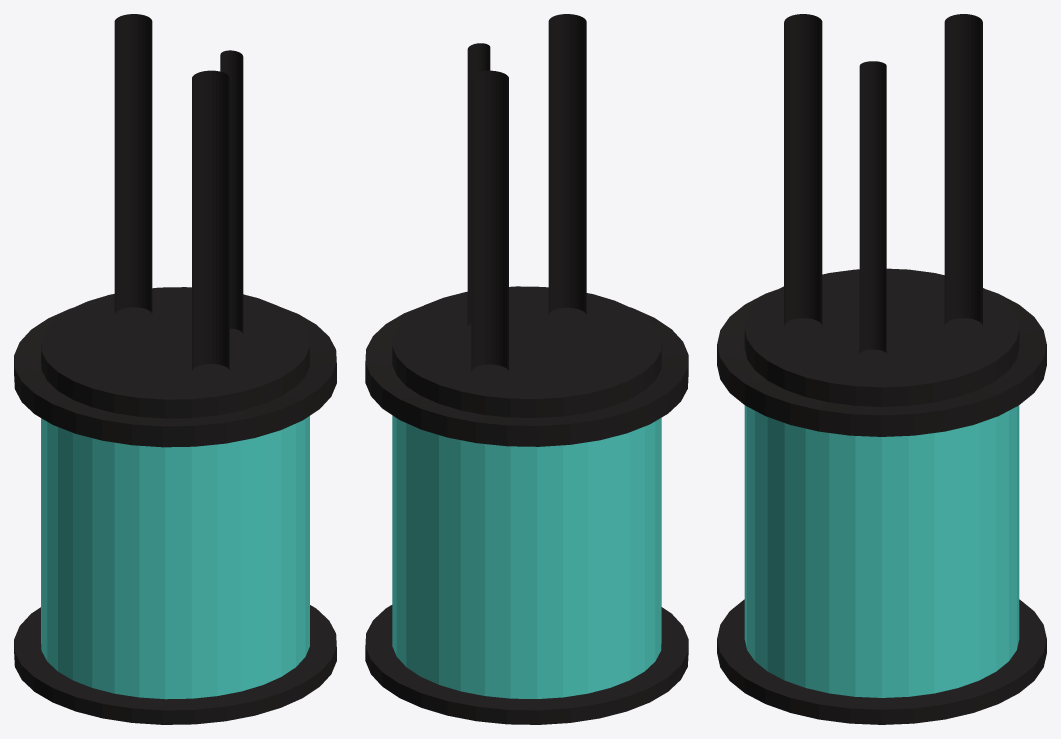
The model's file is TUBO-LAB.fbx.
3 renders of one model, left to right at view 1: azimuth 30°, elevation 25°; view 2: azimuth 150°, elevation 25°; view 3: azimuth 270°, elevation 25°, orthographic. The views are drawn at different scales.
Parts seen in each view (by area): view 1: TuboLateral.003, TuboLateral.005; view 2: TuboLateral.003, TuboLateral.005; view 3: TuboLateral.003, TuboLateral.005.
Part boxes in pixels (<box>): TuboLateral.003: <box>14,287,336,724</box>; TuboLateral.005: <box>114,14,243,370</box>; TuboLateral.003: <box>365,286,688,724</box>; TuboLateral.005: <box>467,14,586,370</box>; TuboLateral.003: <box>717,268,1046,724</box>; TuboLateral.005: <box>784,14,982,353</box>.
Bounding box in the file's own units: 200 × 412 × 195.
